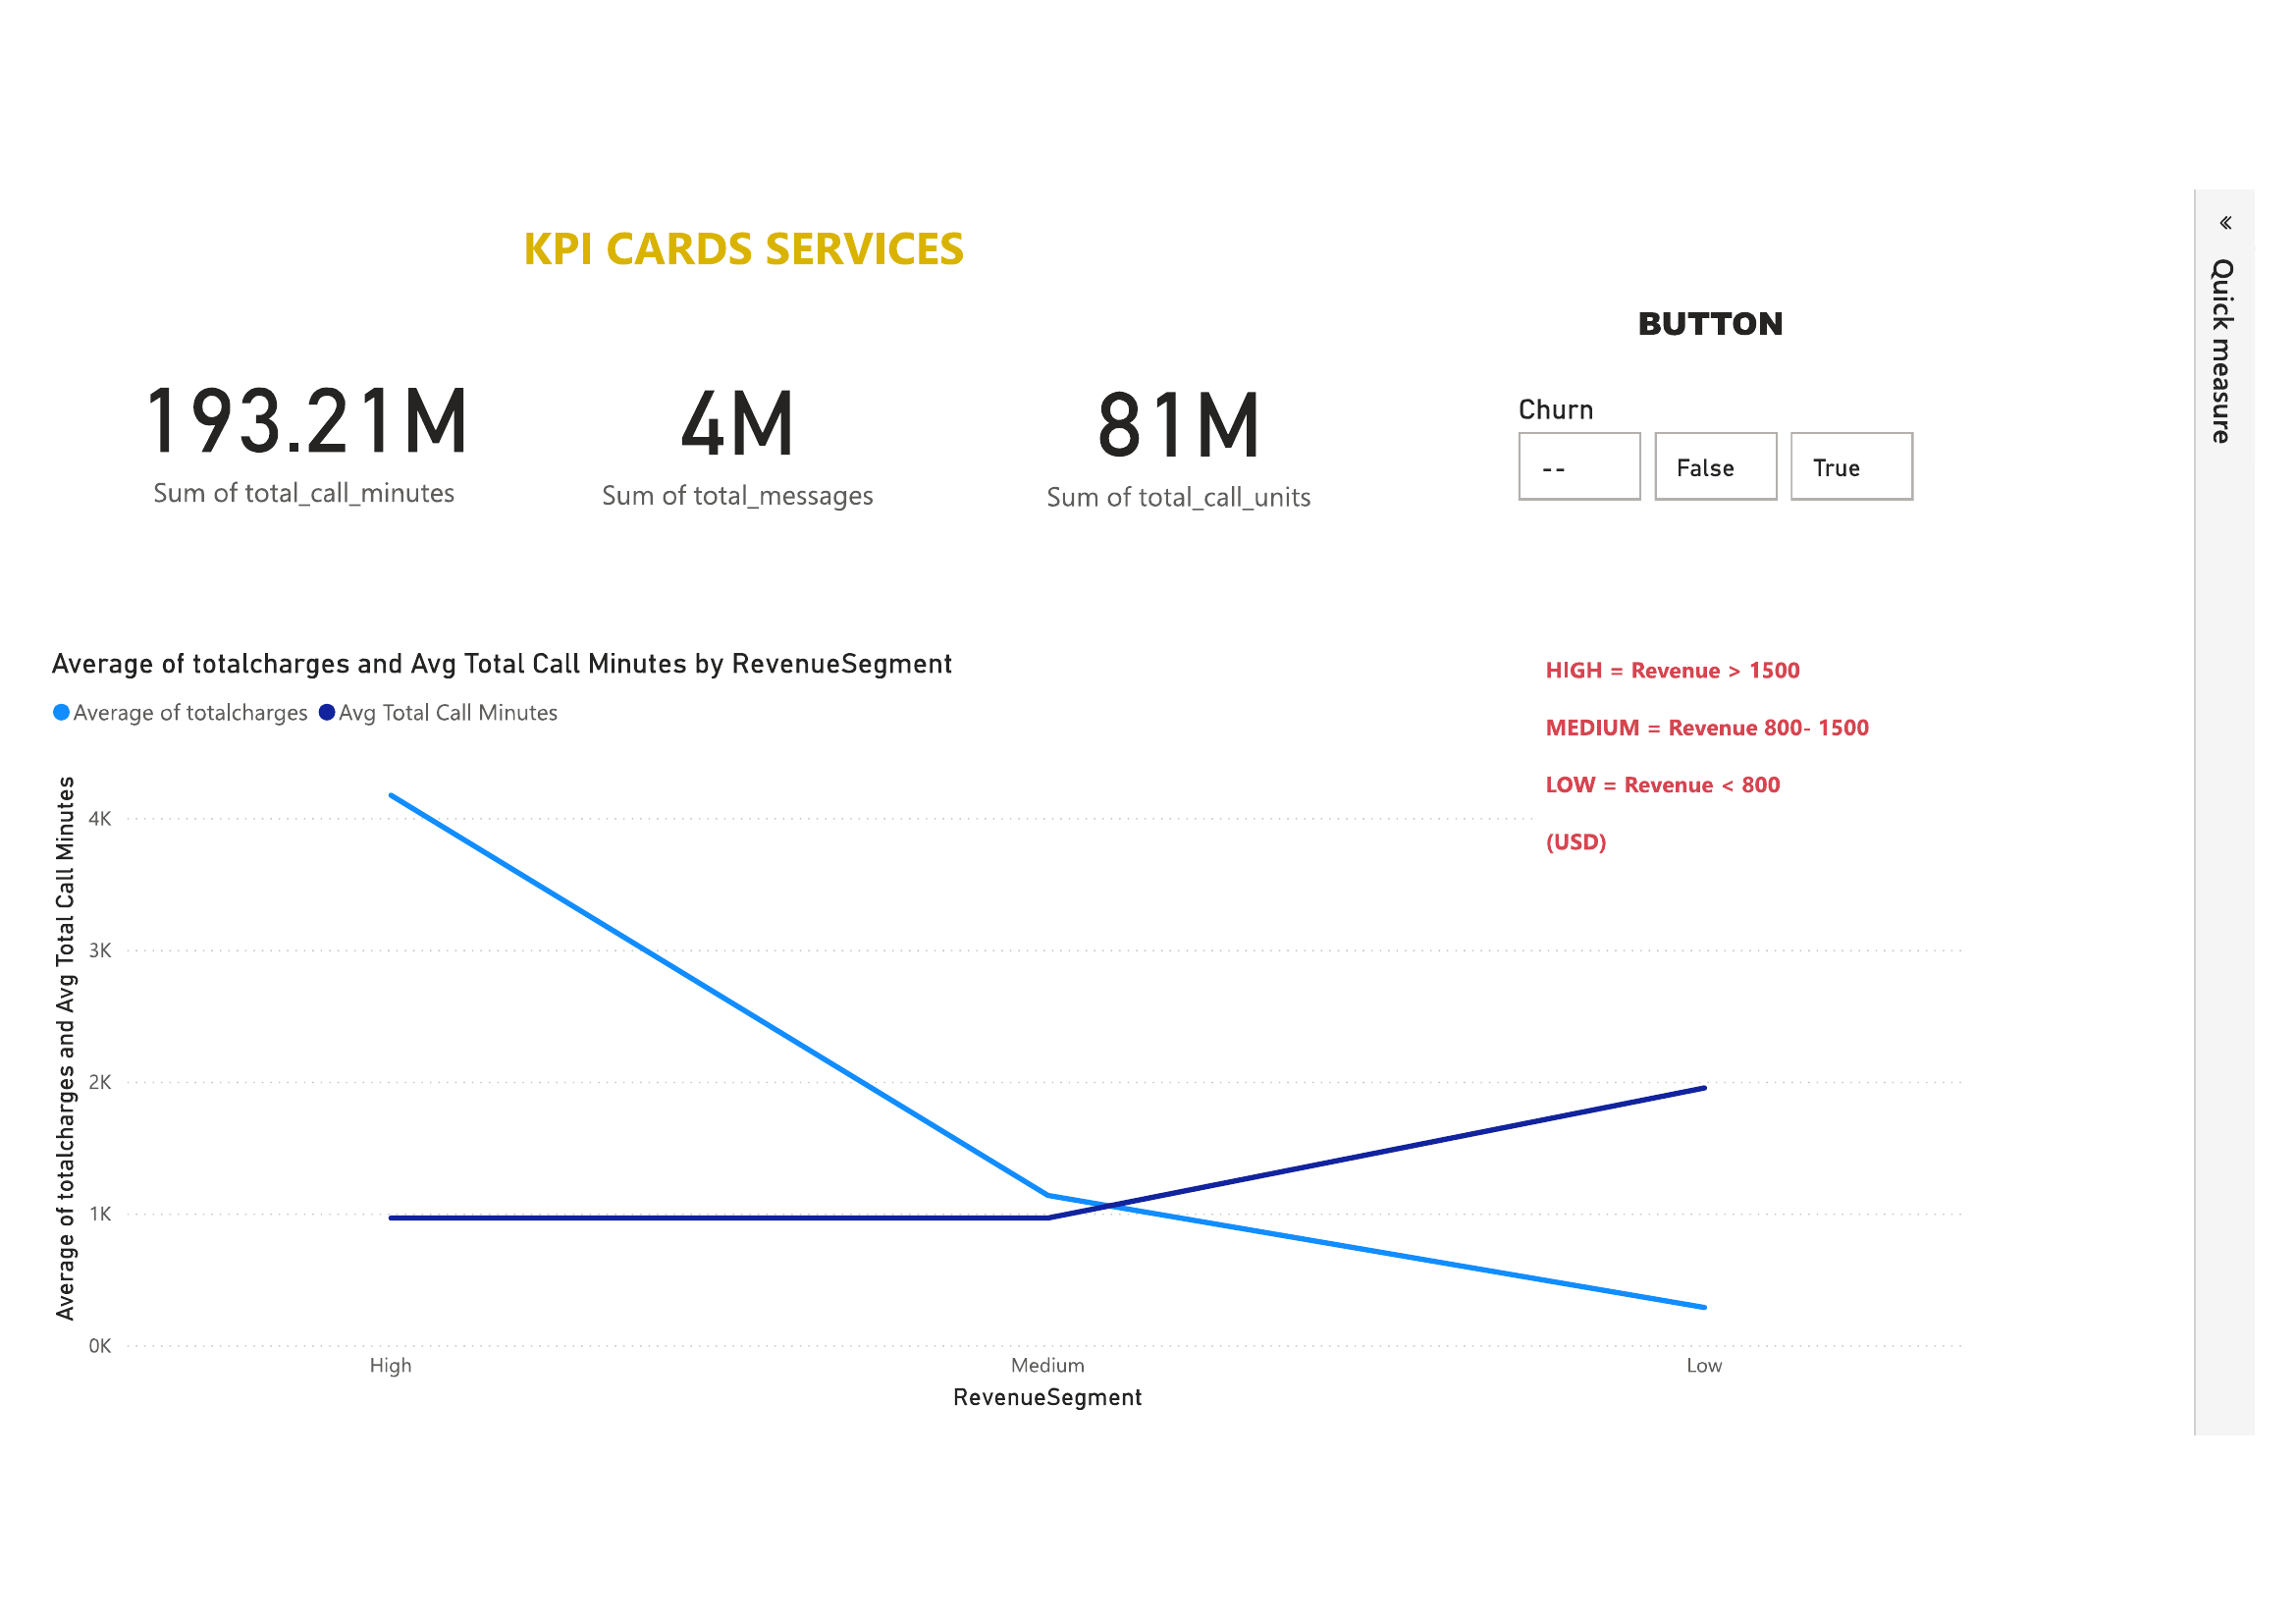

Layout of this report page (visuals, bound fields, positions):
{"tool":"powerbi","page":{"name":"KPI's services","canvas":[1280,720],"ordinal":1},"visuals":[{"type":"textbox","box":[242,0,350,48],"z":0},{"type":"card","fields":{"Values":["Sum(project(dashboards).total_call_minutes)"]},"box":[32,67,247,127],"z":1000},{"type":"card","fields":{"Values":["Sum(project(dashboards).total_messages)"]},"box":[297.5,67.5,231.2,128.8],"z":2000},{"type":"card","fields":{"Values":["Sum(project(dashboards).total_call_units)"]},"box":[552.5,71.2,246.2,123.8],"z":3000},{"type":"advancedSlicerVisual","fields":{"Values":["project(dashboards).Churn"]},"box":[872.5,110,246.2,70],"z":4000},{"type":"textbox","box":[935,50,121.2,41.2],"z":5000},{"type":"lineChart","fields":{"Y":["Avg(project(dashboards).totalcharges)","project(dashboards).Avg Total Call Minutes"],"Category":["project(dashboards).RevenueSegment"]},"box":[0,261.2,1150,458.8],"z":6000},{"type":"textbox","box":[888.8,261.2,261.2,152.5],"z":7000}]}

Visuals, with their boxes on the page's 1280x720 design canvas (x1, y1, x2, y2). These are canvas units, not pixel positions in the 2296x1624 screenshot, which may show the page scaled, cropped or inside an application window:
textbox: select_region(242, 0, 592, 48)
card - Sum(project(dashboards).total_call_minutes): select_region(32, 67, 279, 194)
card - Sum(project(dashboards).total_messages): select_region(298, 68, 529, 196)
card - Sum(project(dashboards).total_call_units): select_region(552, 71, 799, 195)
advancedSlicerVisual - project(dashboards).Churn: select_region(872, 110, 1119, 180)
textbox: select_region(935, 50, 1056, 91)
lineChart - Avg(project(dashboards).totalcharges) x project(dashboards).Avg Total Call Minutes: select_region(0, 261, 1150, 720)
textbox: select_region(889, 261, 1150, 414)
